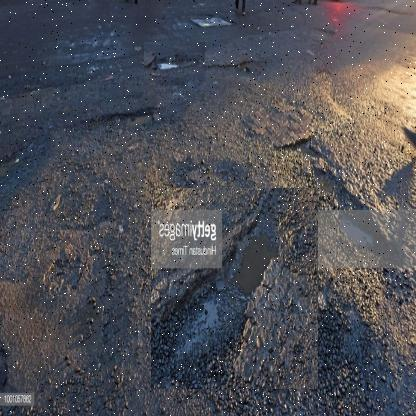pothole: (151, 188, 319, 390), (144, 42, 206, 81)
